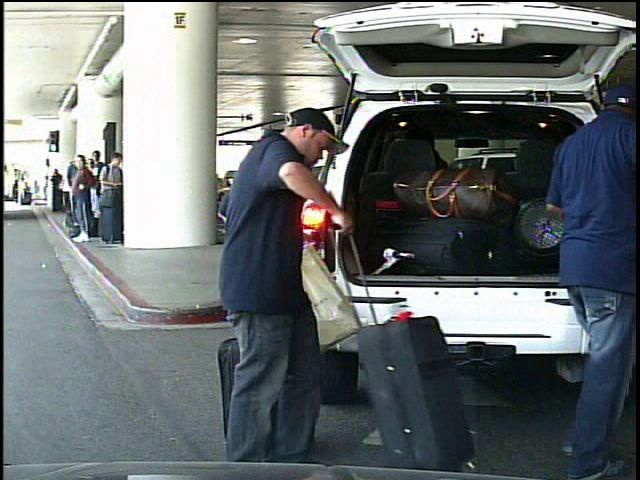person: (200, 97, 364, 470), (503, 78, 640, 480), (18, 177, 29, 208)
